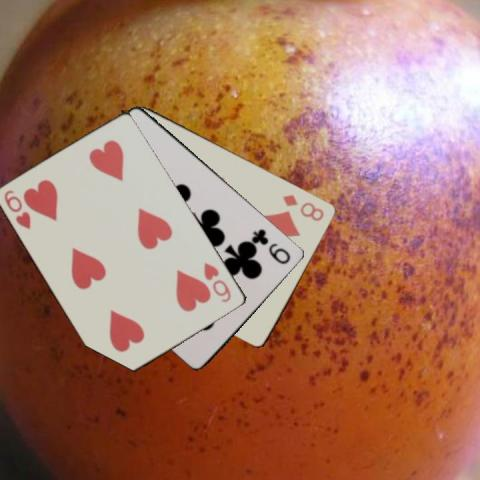6h: (201, 259, 233, 304), (1, 187, 33, 231)
8d: (279, 191, 326, 223)
9c: (250, 226, 293, 266)
